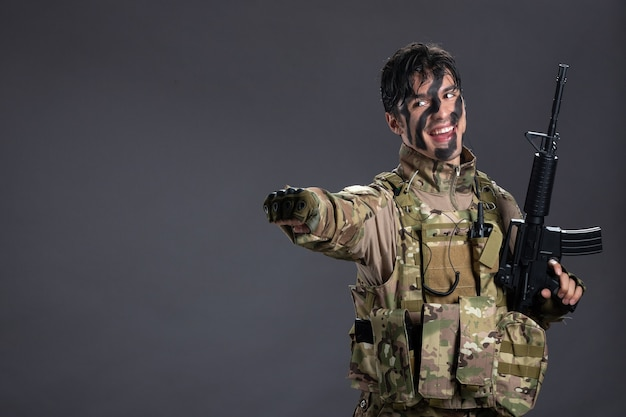gun: (501, 61, 604, 319)
